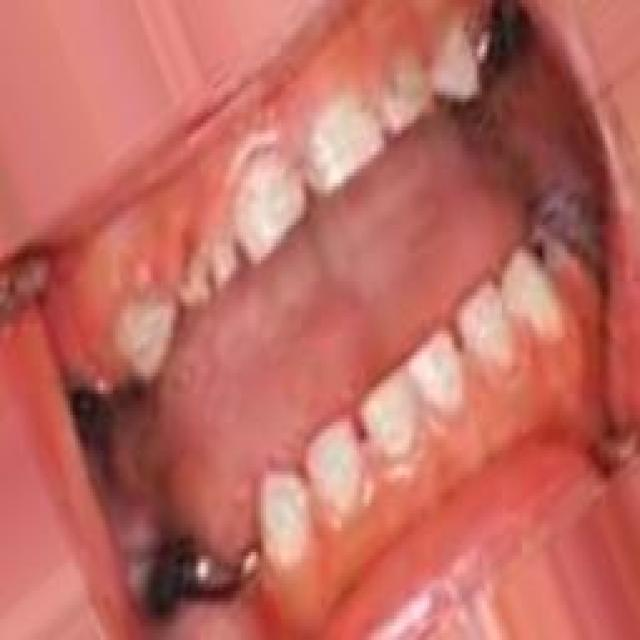caries: (172, 530, 268, 618), (176, 227, 249, 317), (450, 0, 514, 93)
